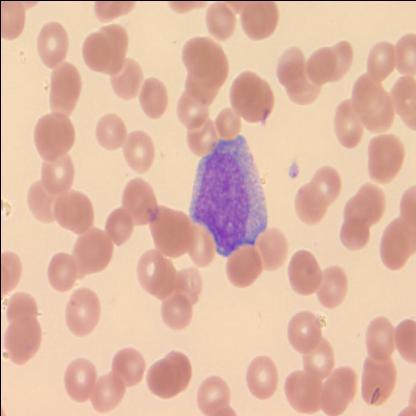Promyelocyte: (189, 132, 267, 256)
